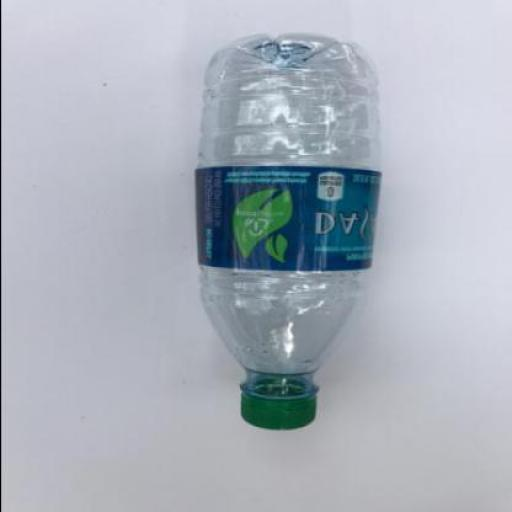plastic: (192, 32, 380, 430), (191, 164, 380, 270), (238, 378, 318, 429)
